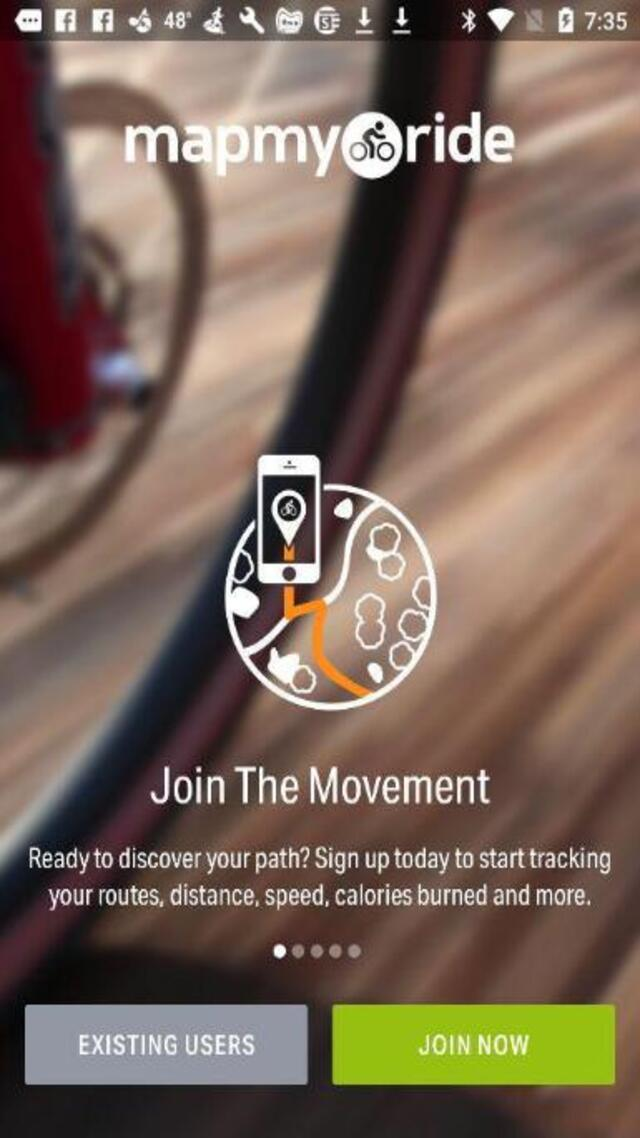Image: (218, 452, 436, 710), (124, 110, 514, 178)
Text: (28, 844, 614, 876), (41, 882, 598, 910), (150, 765, 488, 804), (73, 1031, 255, 1058), (413, 1030, 532, 1058)
TextButton: (332, 1003, 616, 1085), (24, 1003, 308, 1085)
